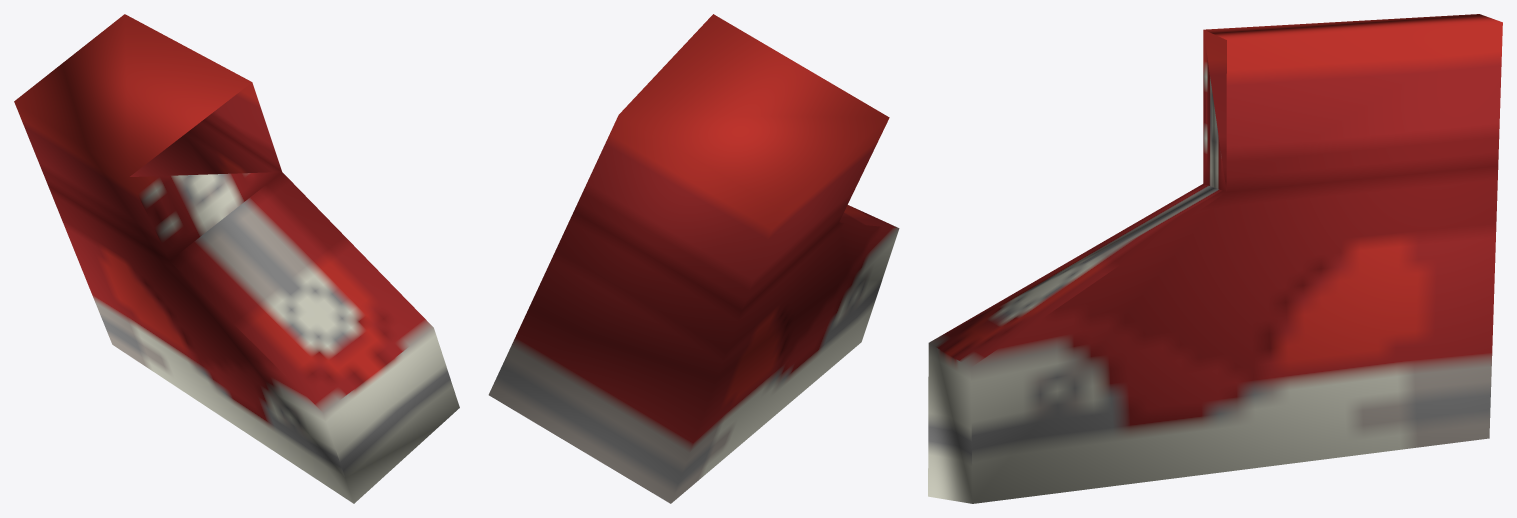
The model's file is Roll_LeftFoot.obj.
3 views of the same model, side by side, from view 1: azimuth 30°, elevation 25°; view 2: azimuth 150°, elevation 25°; view 3: azimuth 270°, elevation 25° (orthographic). The views are drawn at different scales.
Parts seen in each view (by area): view 1: LeftFoot_Head.002; view 2: LeftFoot_Head.002; view 3: LeftFoot_Head.002.
Boxes of the visible parts, box(x1,y1,x2,y2) form: LeftFoot_Head.002: box(14, 14, 459, 503); LeftFoot_Head.002: box(488, 14, 899, 503); LeftFoot_Head.002: box(928, 14, 1502, 503).
Size of the model in its own units: 0.8916 by 1.11 by 1.26.
Materials: 1 (1 with a texture image).
